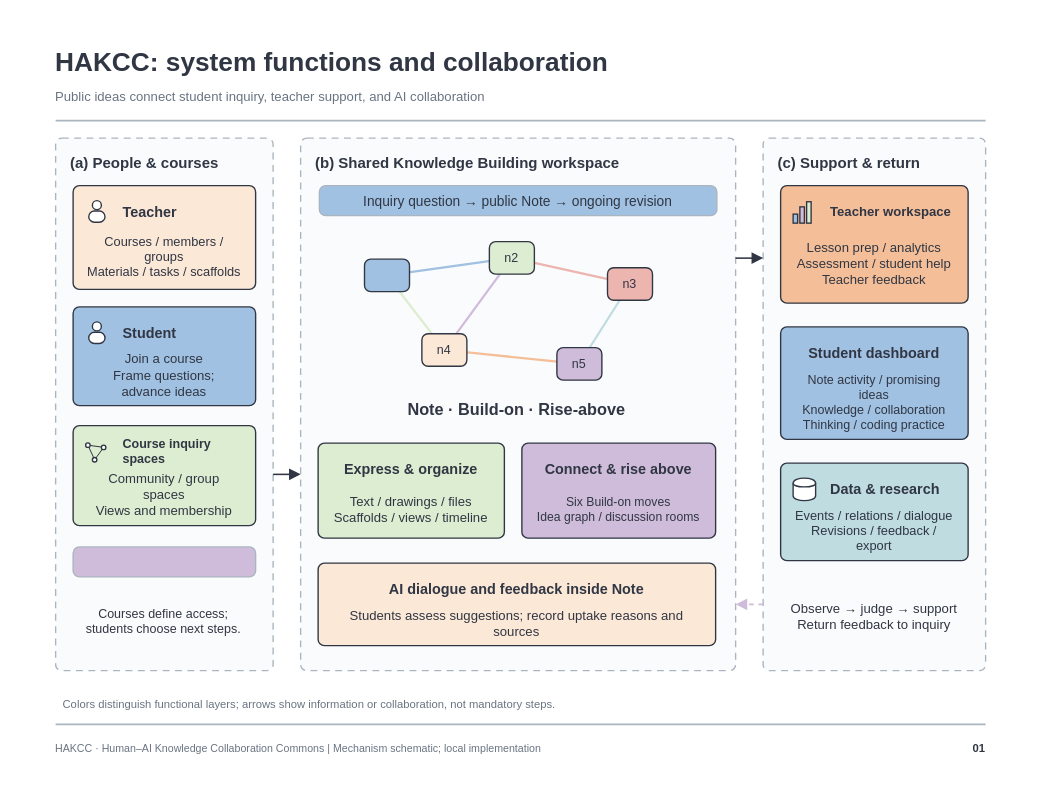
The diagram is 1041 pixels wide and 791 high, and some of its shapes have lost their labels. Here are the shapes that lost their labels. From the top down, the box of each, then its label:
(363, 258, 410, 292): n1
(72, 546, 256, 577): Teacher-configured AI
